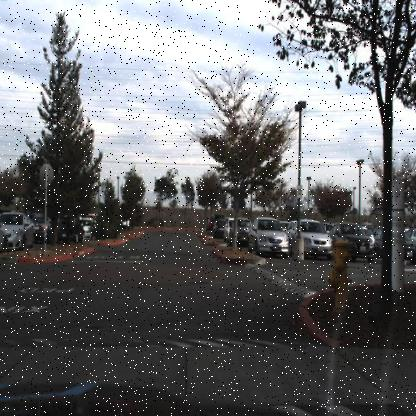car: (330, 220, 374, 260), (292, 219, 332, 258), (375, 226, 414, 265), (247, 219, 288, 255), (0, 208, 35, 248), (4, 210, 34, 252), (57, 215, 85, 245), (31, 210, 52, 246), (227, 217, 249, 248), (230, 219, 254, 245), (34, 216, 50, 247), (80, 216, 97, 240), (213, 219, 227, 242), (222, 215, 232, 243), (0, 228, 8, 257), (213, 220, 225, 238), (82, 222, 92, 242)
